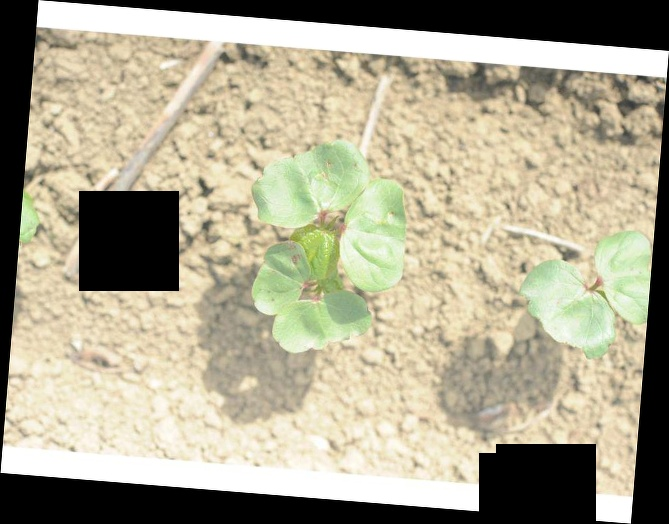cotton: (245, 139, 408, 358), (519, 224, 649, 360)
